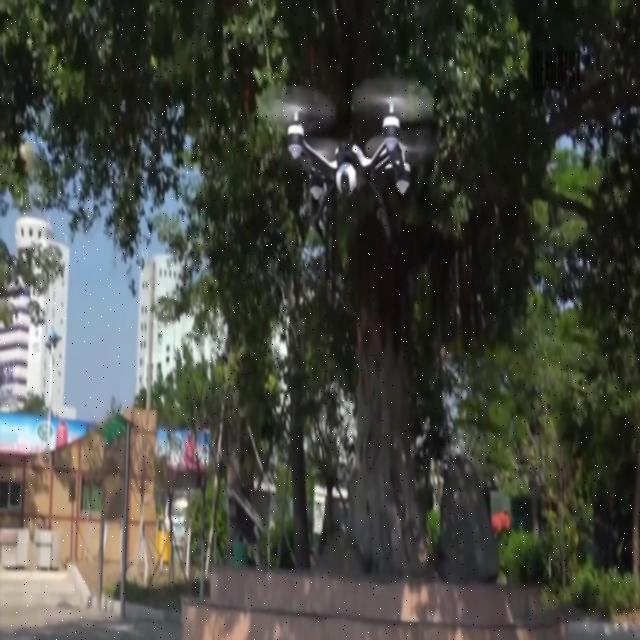UAV: (259, 80, 435, 244)
